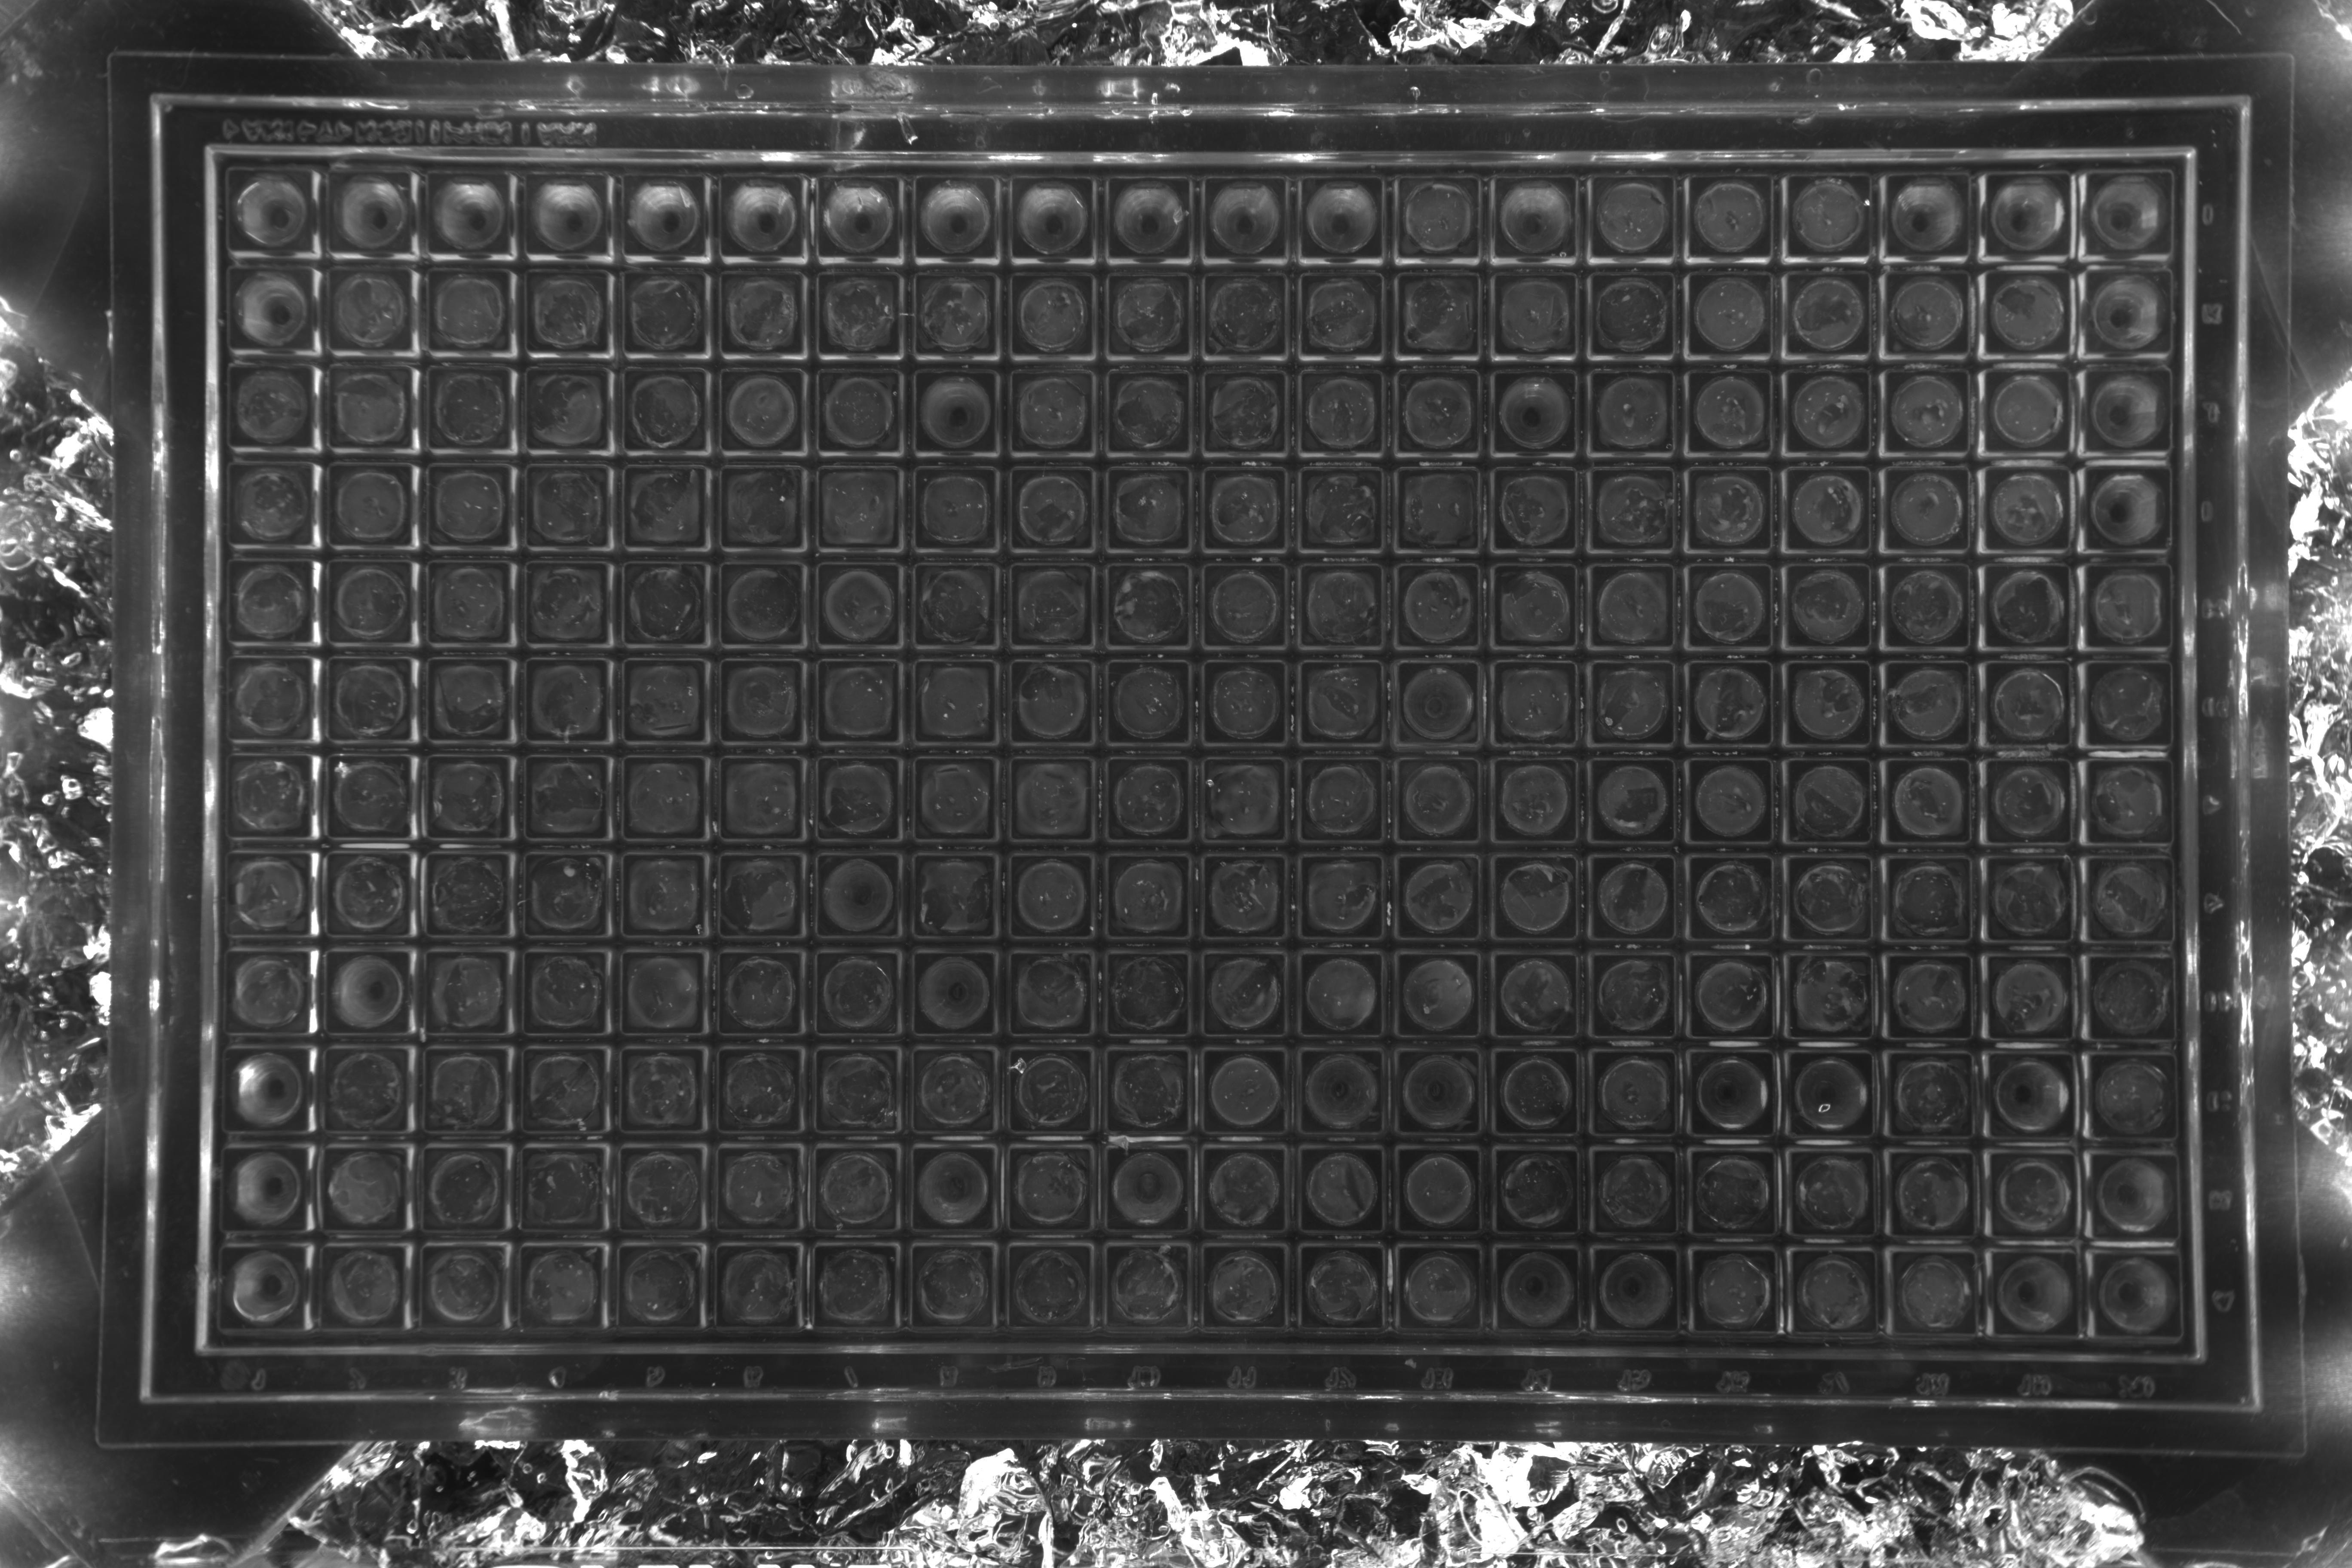WM_well: (497, 556, 586, 644), (688, 1043, 777, 1130), (303, 457, 390, 544), (388, 1340, 476, 1428), (390, 1242, 478, 1330), (392, 1143, 479, 1230), (486, 1340, 574, 1428), (595, 556, 682, 644), (693, 364, 780, 451), (693, 460, 780, 548), (980, 1239, 1067, 1326), (983, 656, 1071, 744), (1080, 560, 1167, 647), (1176, 656, 1263, 744), (1372, 1340, 1459, 1428), (1465, 367, 1552, 455), (1470, 1244, 1557, 1332), (1659, 269, 1746, 357), (1661, 560, 1748, 647), (1662, 656, 1750, 744), (1666, 1246, 1753, 1333), (1956, 560, 2044, 647), (2061, 1053, 2149, 1141)
